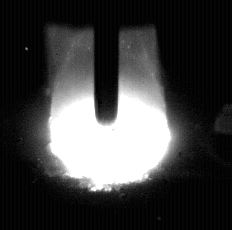arame: (94, 0, 120, 126)
poca: (49, 0, 172, 230)
